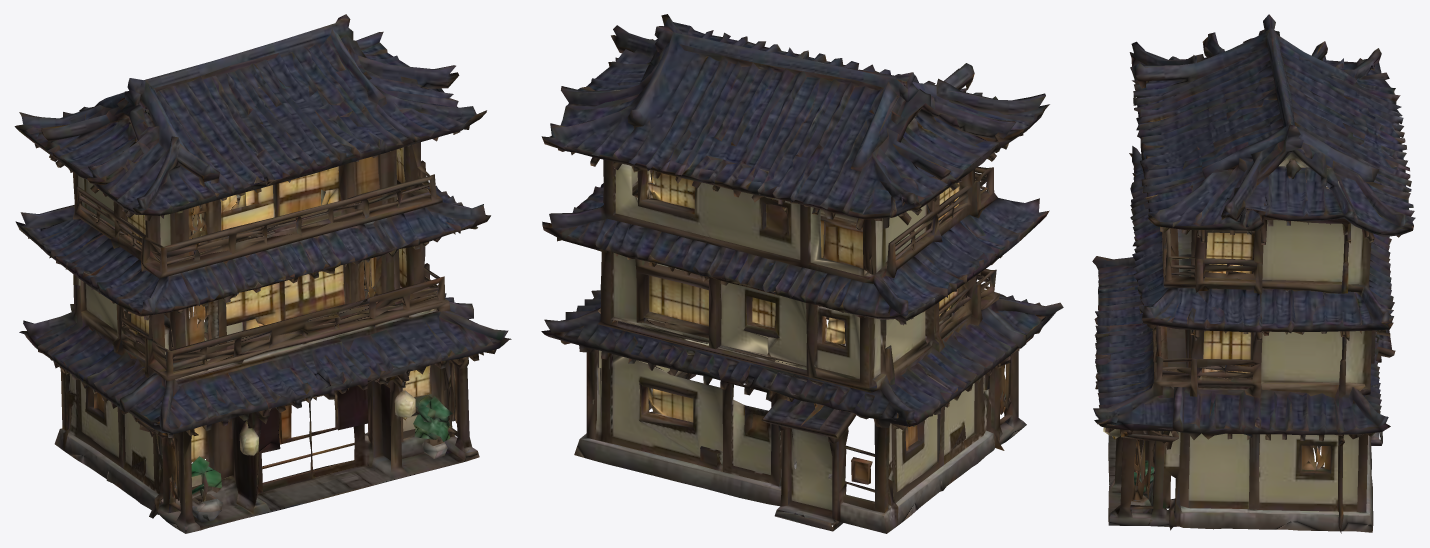
The model's file is candidate.glb.
The picture shows the model from 3 angles, left to right: view 1: azimuth 30°, elevation 25°; view 2: azimuth 150°, elevation 25°; view 3: azimuth 270°, elevation 25°; orthographic projection. The views are drawn at different scales.
Parts seen in each view (by area): view 1: compact__hotel_3__native_mobile; view 2: compact__hotel_3__native_mobile; view 3: compact__hotel_3__native_mobile.
Boxes of the visible parts, x1,y1,x2,y2 form: compact__hotel_3__native_mobile: [14, 14, 511, 533]; compact__hotel_3__native_mobile: [541, 14, 1063, 533]; compact__hotel_3__native_mobile: [1092, 14, 1415, 533].
Size of the model in its own units: 0.997 by 1 by 0.7395.
Materials: 1 (1 with a texture image).
